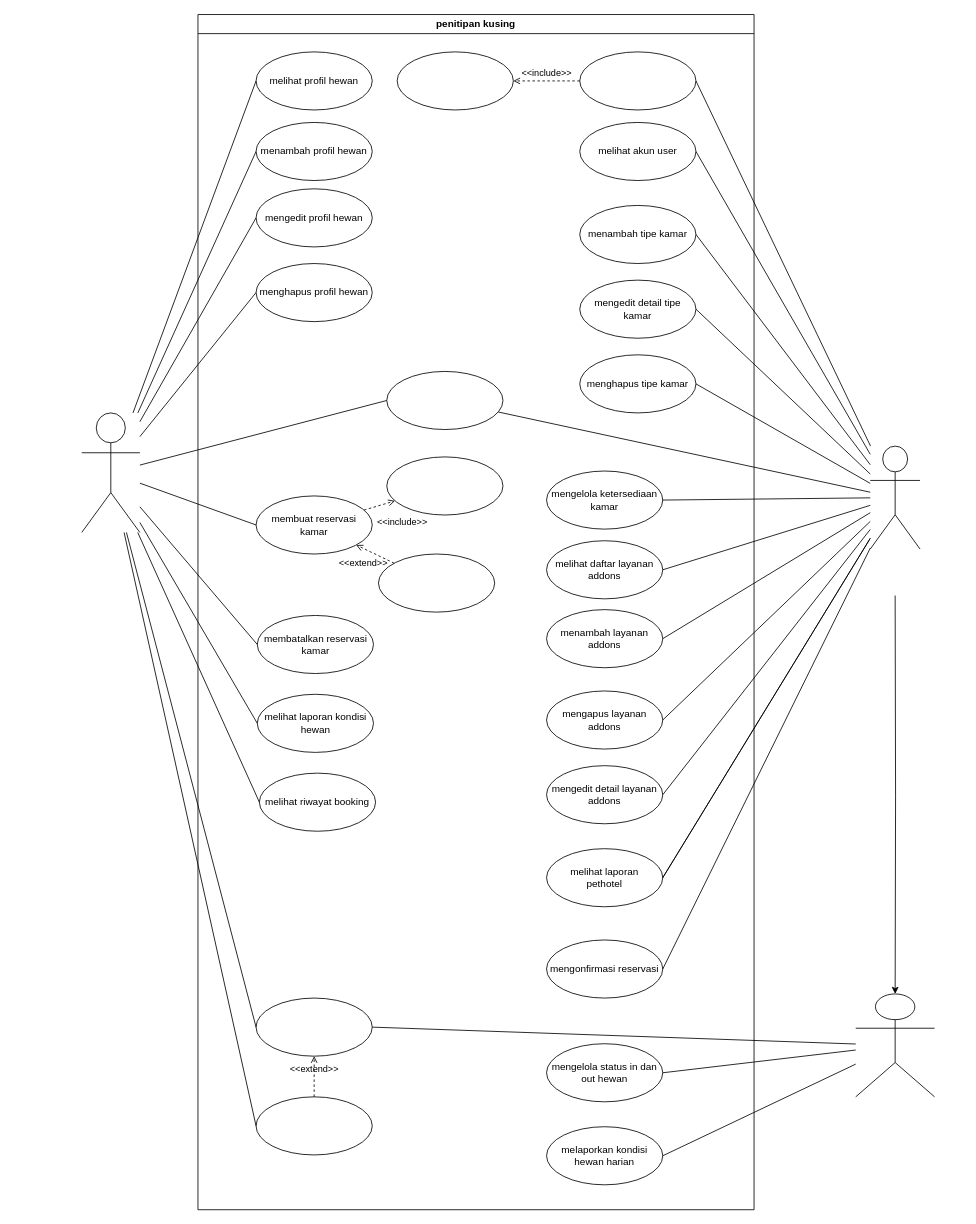
The diagram is 976 pixels wide and 1224 high, and some of its shapes have lost their labels. The shapes that lost their labels are listed below. From the top down, each one's box as (x1, y1, x2, y2) in pixels, then its label:
(396, 51, 513, 110): menetapkan hak akses akun
(579, 51, 696, 110): membuat akun
(386, 371, 503, 430): melihat katalog tipe kamar
(81, 412, 140, 532): pet owner
(386, 456, 503, 515): memilih tipe kamar
(869, 445, 920, 549): admin
(378, 553, 495, 612): menambah layanan tambahan
(255, 997, 372, 1056): login
(855, 993, 935, 1097): pet sitter
(255, 1096, 372, 1155): registrasi akun
